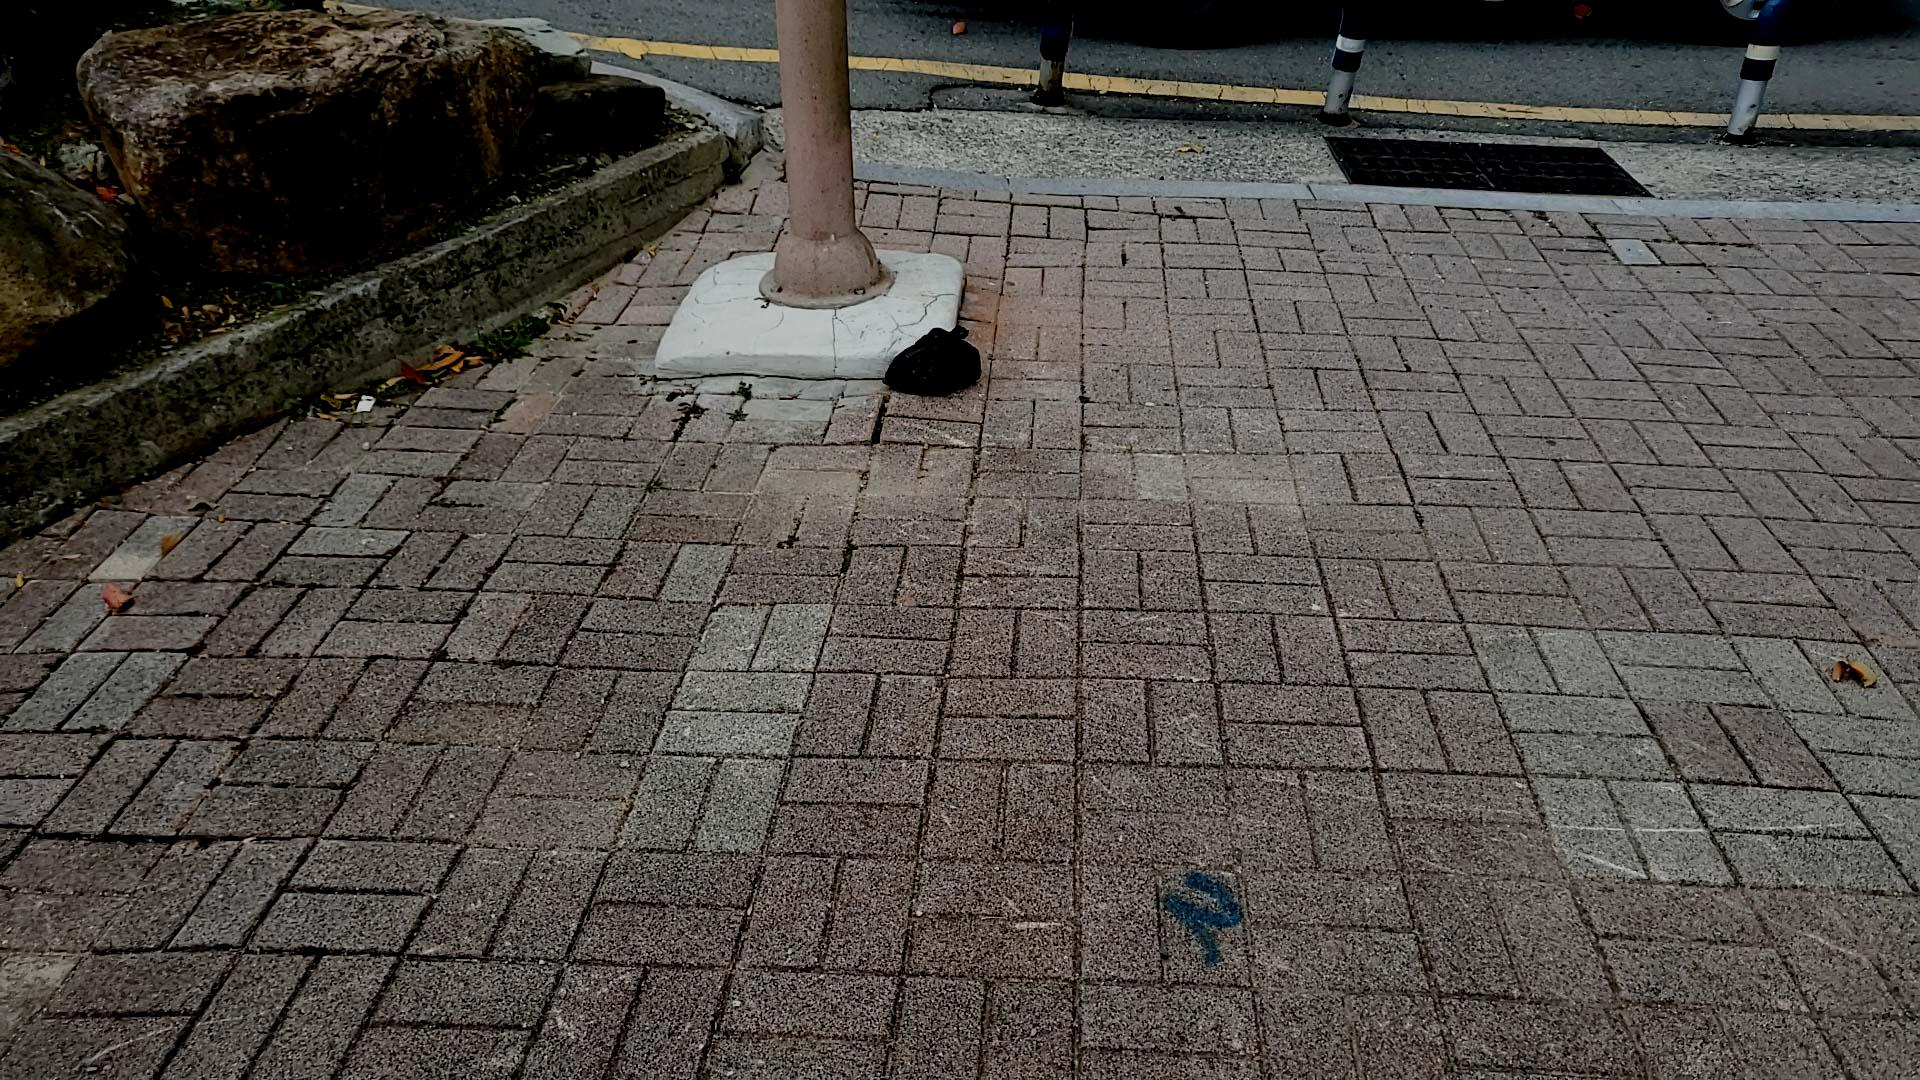black_bag: (876, 323, 986, 402)
